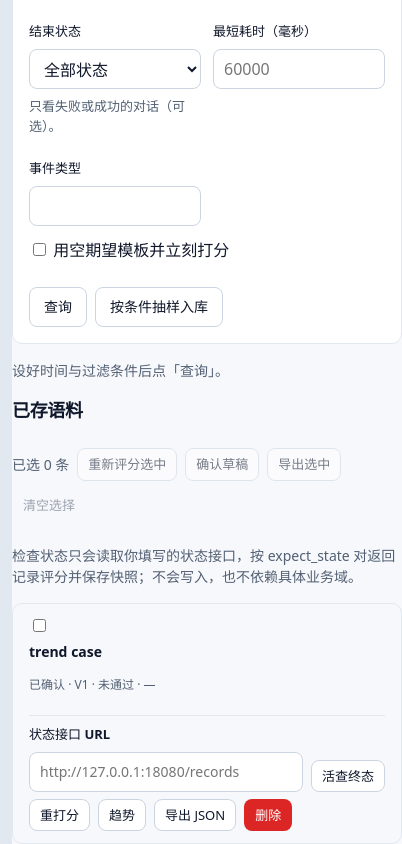
Test: EvalSettings trend and batch actions › loads score history and renders a trend
The image size is (402, 844).
(page scrolled)
Click the button "趋势". click: (122, 815)
box: [98,799,146,831]
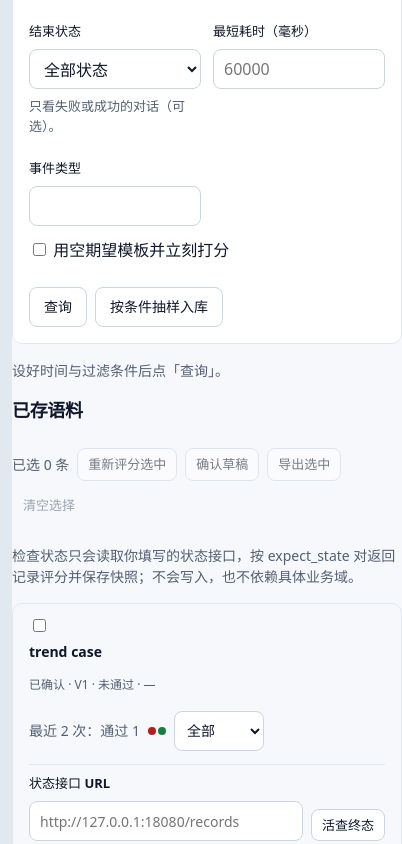
Check: the element with test id "eval-trend-ec_trend" is shown, box [29,711,264,751]
Check: the element with test id "eval-trend-ec_trend" reads "最近 2 次：通过 1", box [29,721,140,740]
Check: the number of elements with class "eval-trend-dot" is 2, box [148,727,156,735]; [158,727,166,735]
